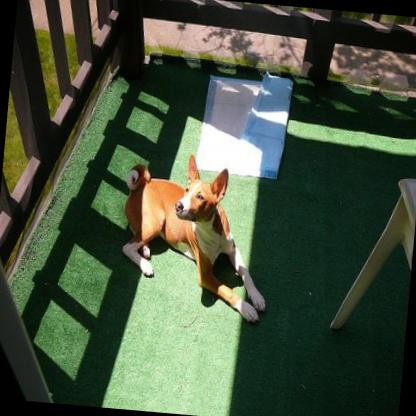basenji: (112, 145, 278, 322)
